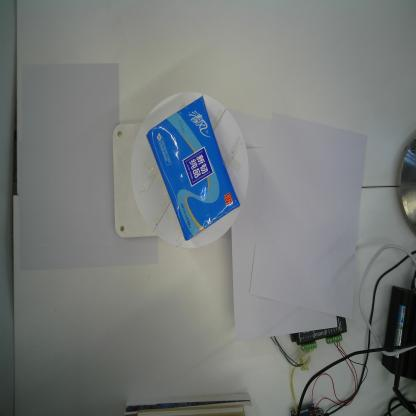Tissue: (144, 93, 242, 244)
